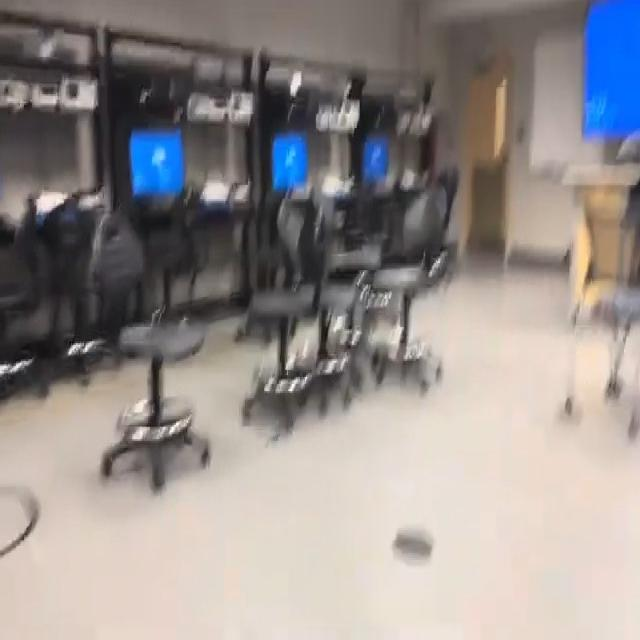drone: (254, 415, 287, 457)
